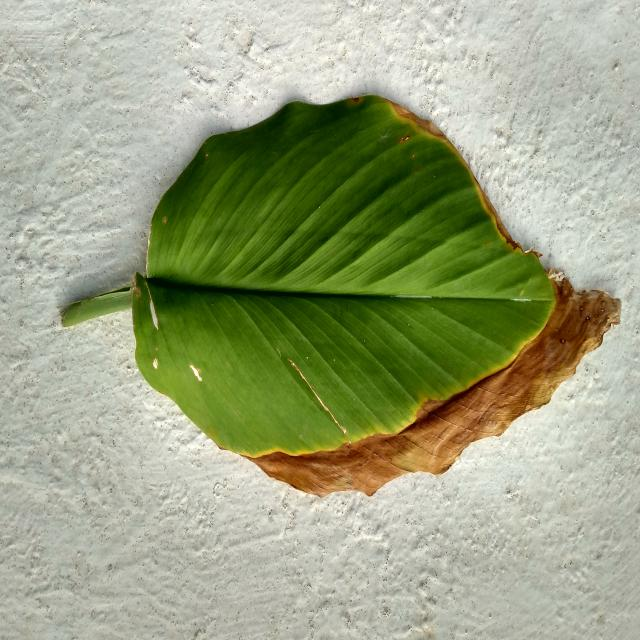leaf blotch: (61, 96, 620, 496)
